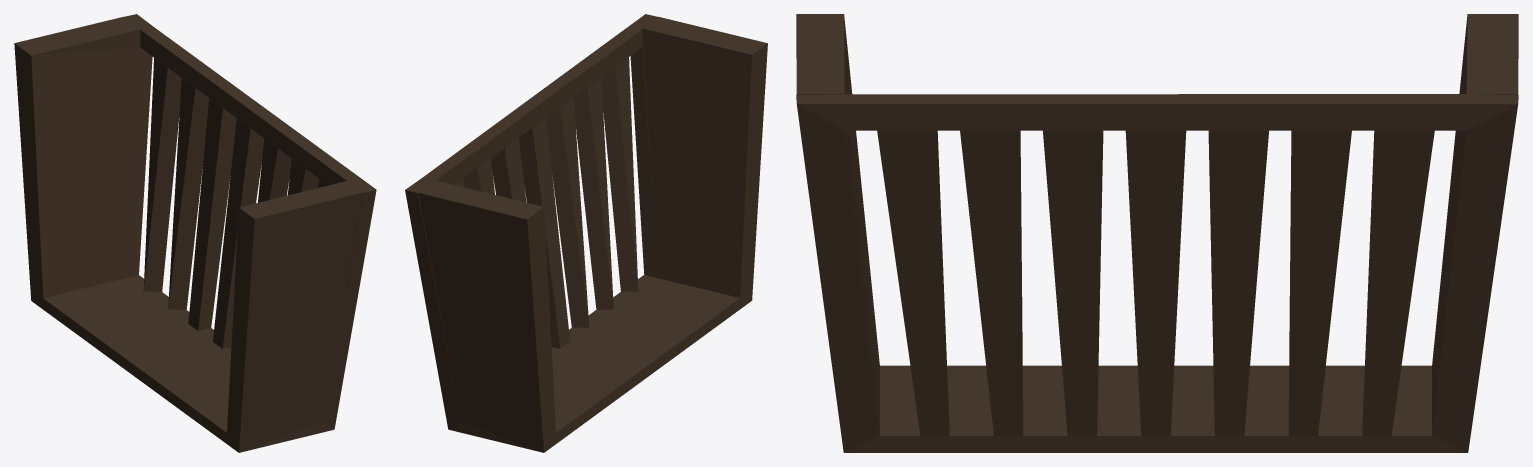
File: Balcony.fbx
3 views of the same model, side by side, from view 1: azimuth 30°, elevation 25°; view 2: azimuth 150°, elevation 25°; view 3: azimuth 270°, elevation 25° (orthographic). The views are drawn at different scales.
Parts seen in each view (by area): view 1: Cube.169; view 2: Cube.169; view 3: Cube.169.
Boxes of the visible parts, x1=… form: Cube.169: x1=14, y1=14, x2=376, y2=452; Cube.169: x1=405, y1=14, x2=767, y2=452; Cube.169: x1=796, y1=14, x2=1518, y2=452.
Bounding box in the file's own units: 17.46 × 33.49 × 59.47.
